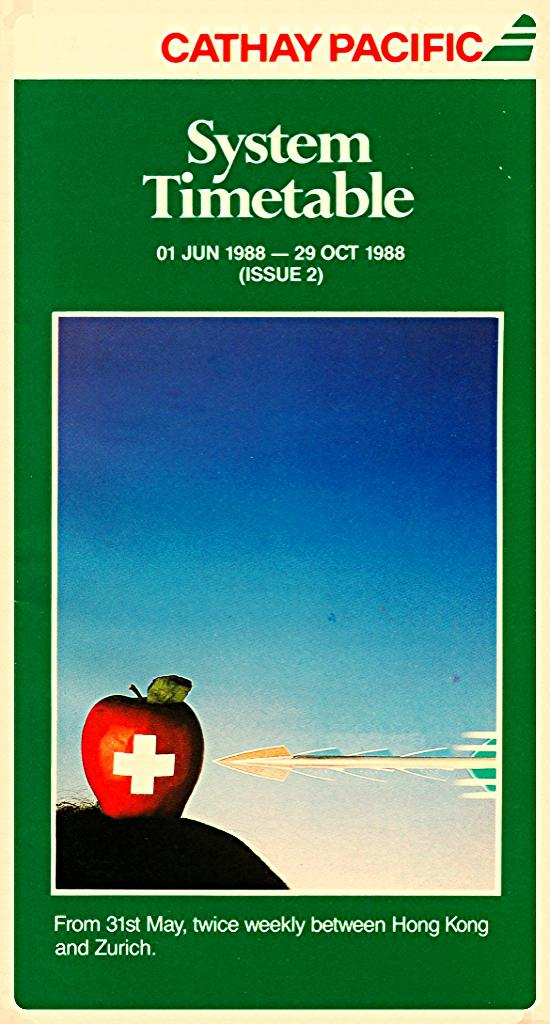Apple: (81, 682, 203, 819)
